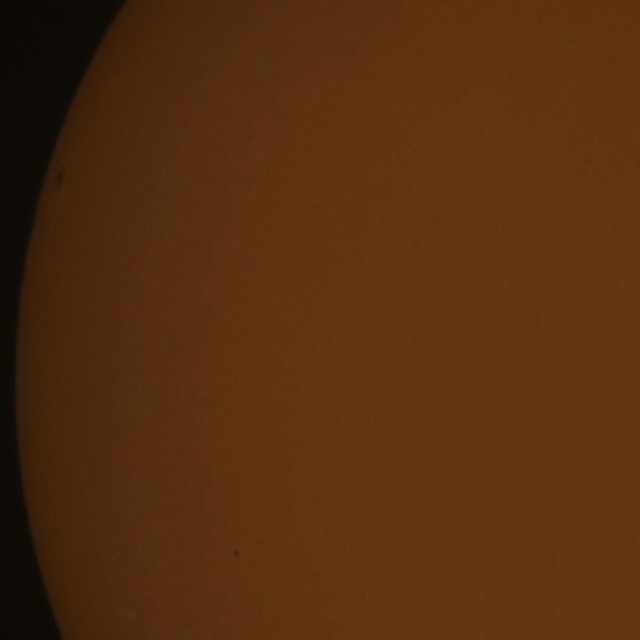sunspot: (231, 548, 242, 560)
